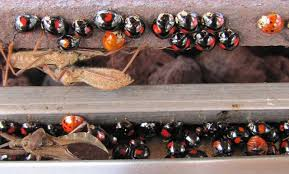red: (256, 12, 284, 34)
